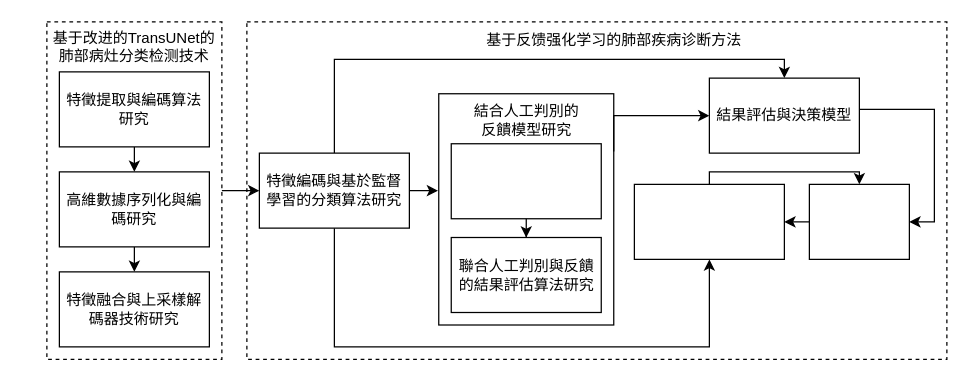
Some shapes in this 969 by 381 pixel diagram are drawn without their labels. The centre of each missing label's shape, as x and y in pixels:
"强化學習優化 策略研究" goes at pixel 858 221.
"神經網絡模型權重優化算法研究" goes at pixel 708 221.
"結合多模型的綜合 決策算法研究" goes at pixel 525 180.
